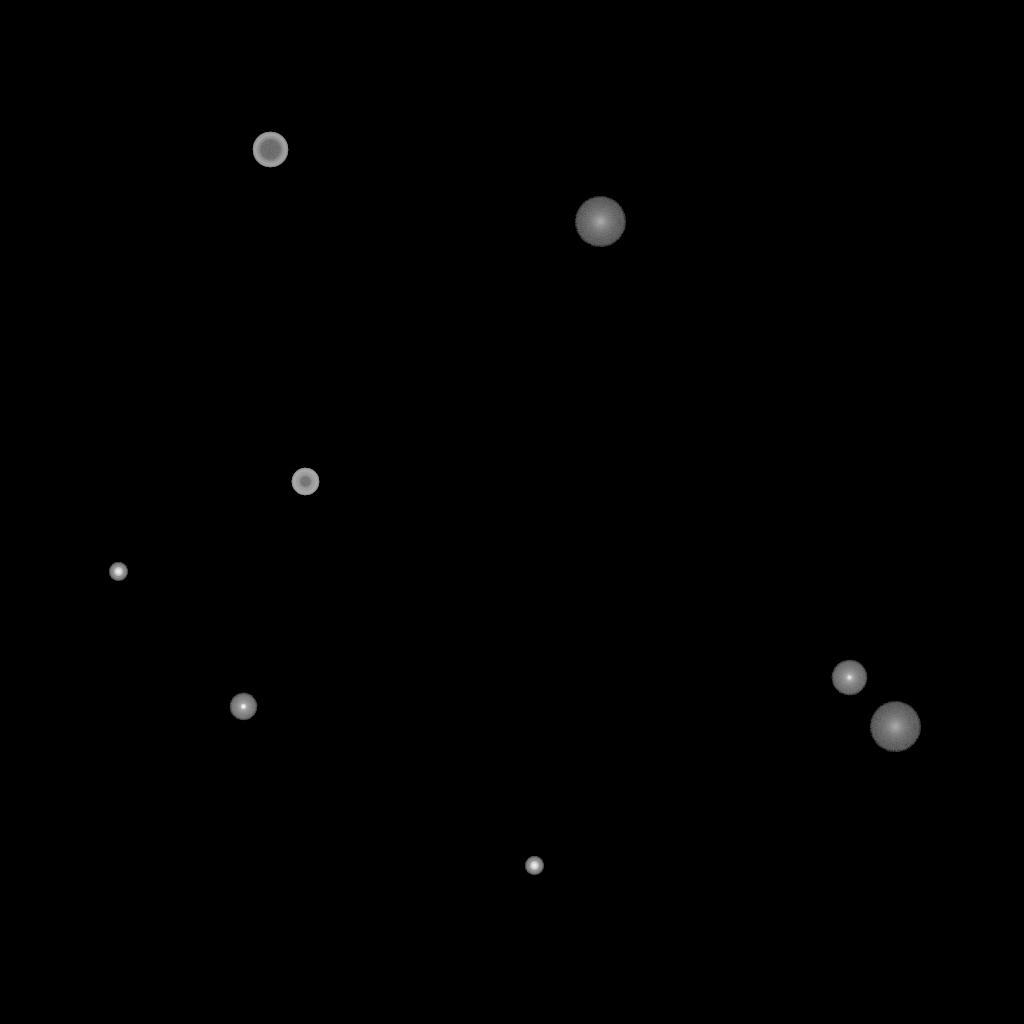depth:-10: (229, 693, 257, 721)
depth:-20: (525, 857, 543, 875), (109, 563, 127, 581)
depth:-50: (291, 468, 319, 496)
depth:-60: (252, 132, 288, 168)
depth:0: (831, 660, 867, 696)
depth:20: (574, 197, 626, 247), (869, 702, 921, 752)
